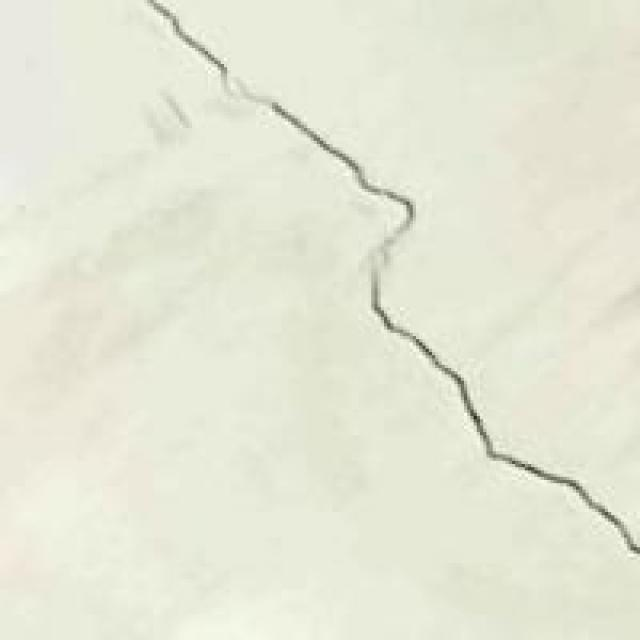crack: (141, 0, 637, 589)
